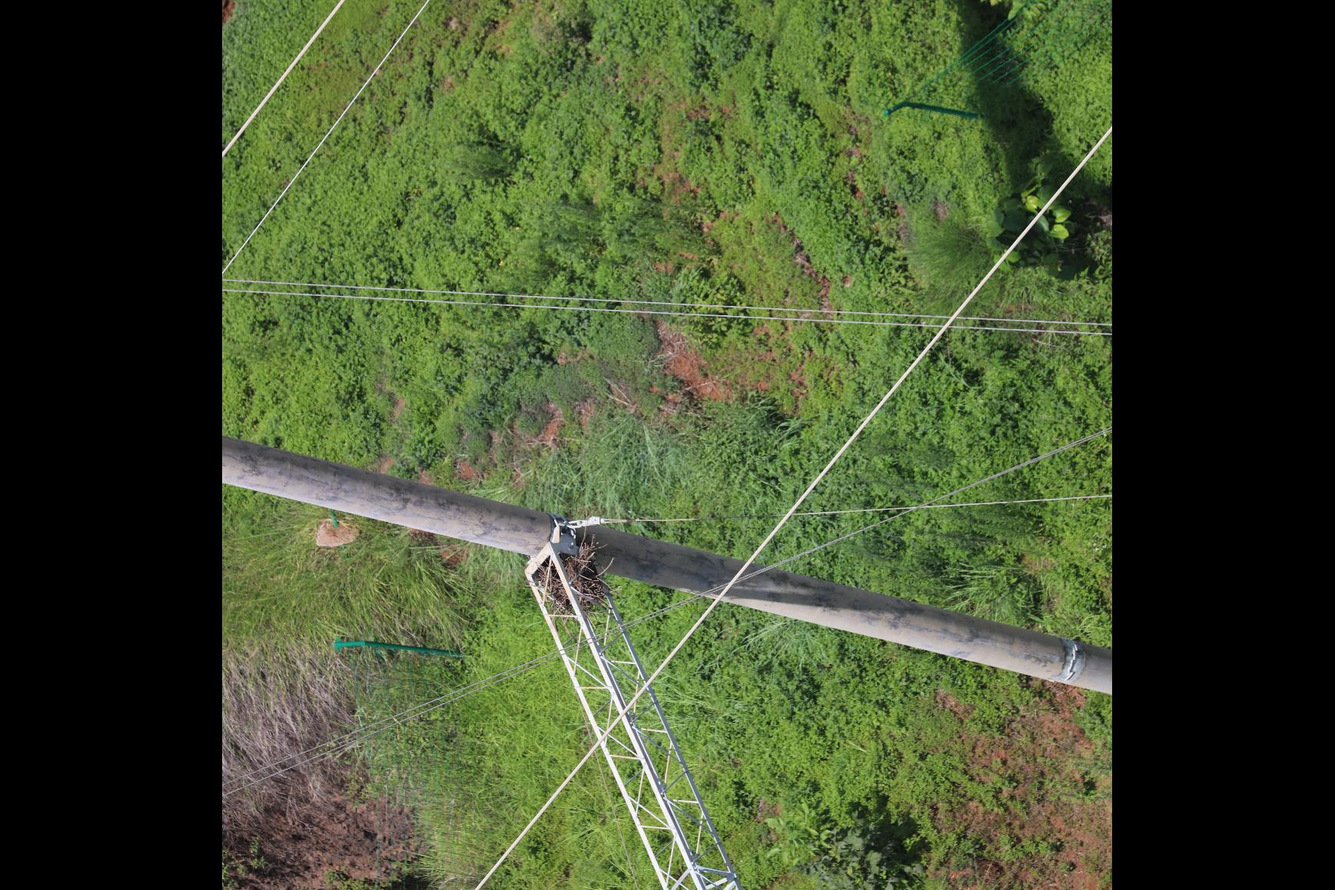nest: (536, 540, 606, 621)
